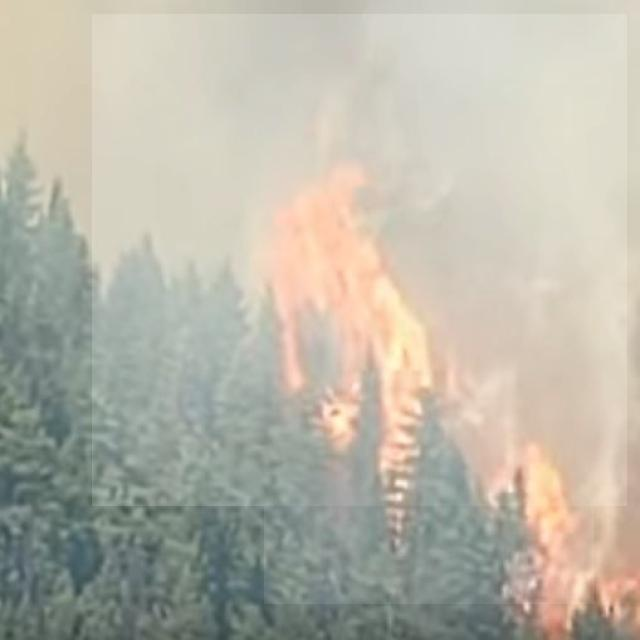Fire: (264, 195, 594, 604)
Smoke: (92, 14, 627, 506)
